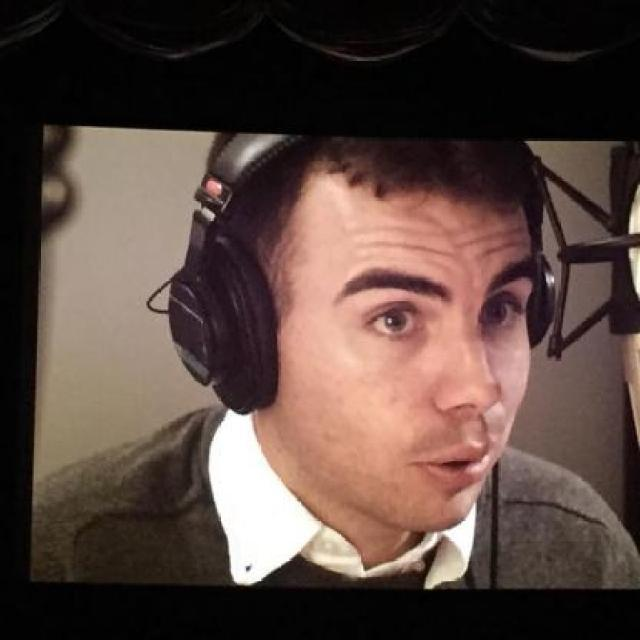earphone: (122, 115, 358, 423)
